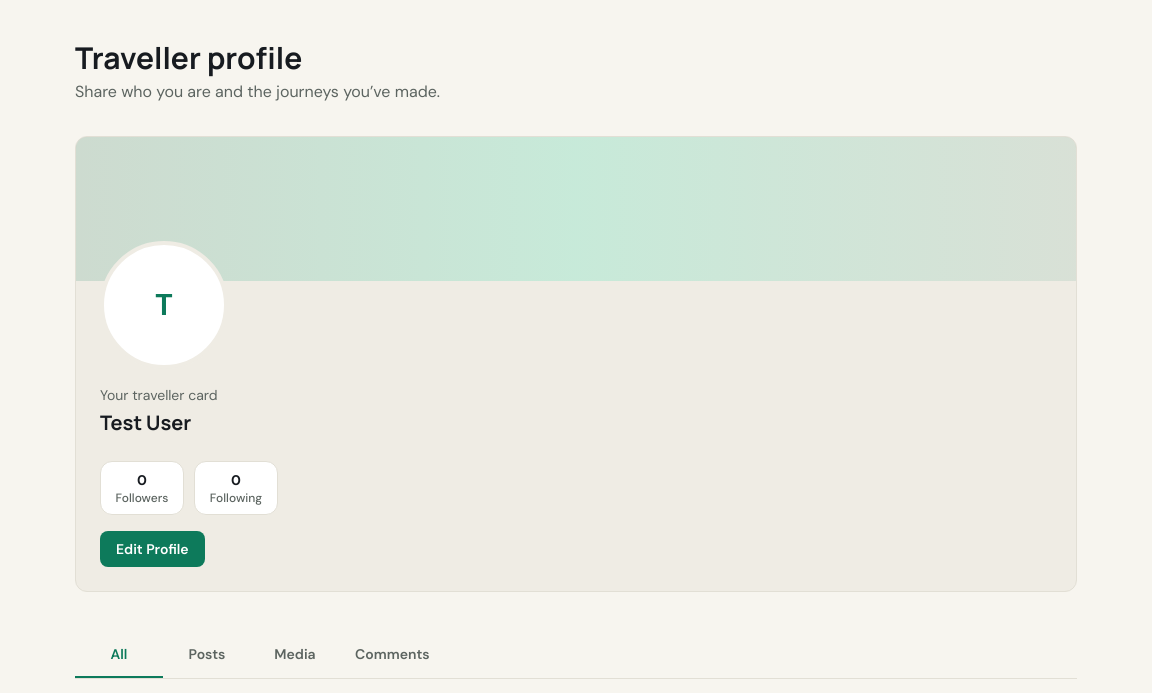
Test: Profile update › shows error on profile update failure
The width and height of the screenshot is (1152, 693).
Click the button "Edit Profile". click: (152, 549)
box: top-left (100, 531), bottom-right (205, 567)
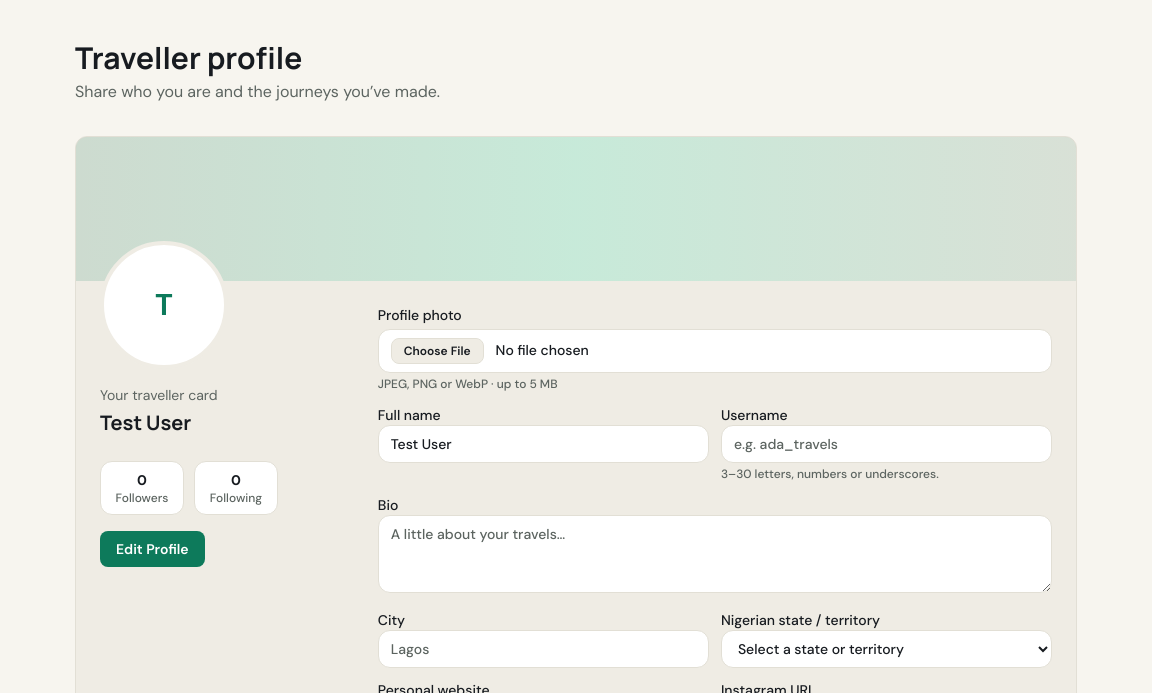
Now the field labelled "Full name" holds "Test User"
Replace the text in the field labelled "Full name" with "Updated Name". click: (543, 444)
box: top-left (378, 425), bottom-right (709, 463)
(page scrolled)
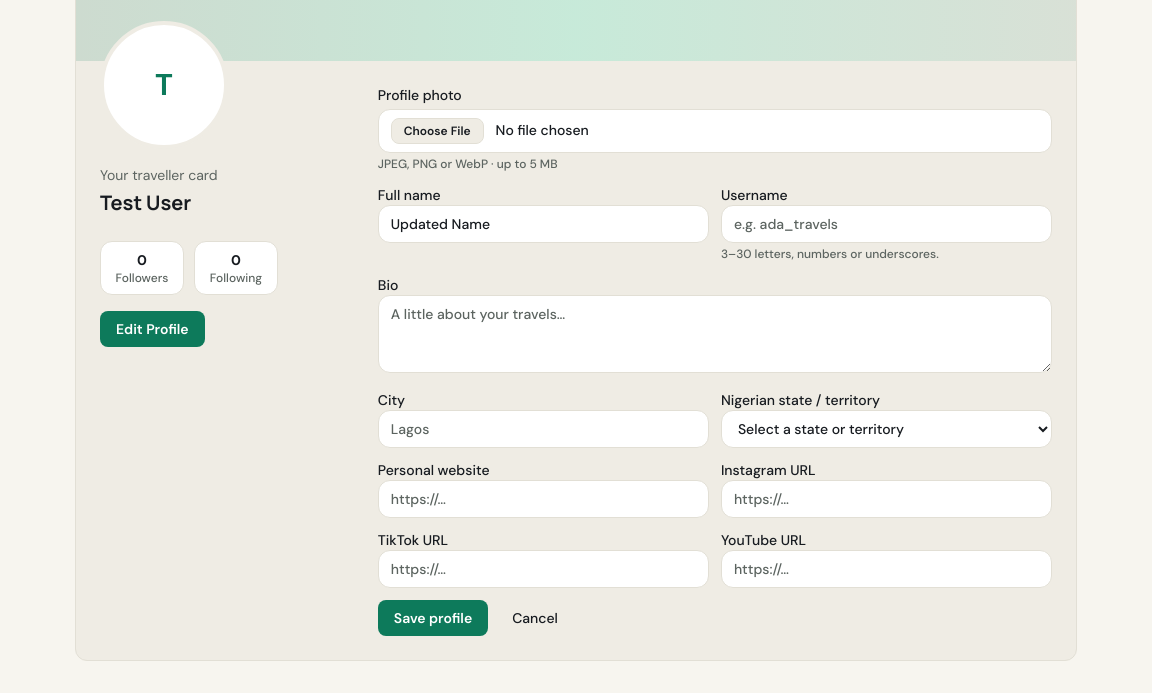
Submit the form named "Save profile", box top-left (378, 85), bottom-right (1052, 636)
(page scrolled)
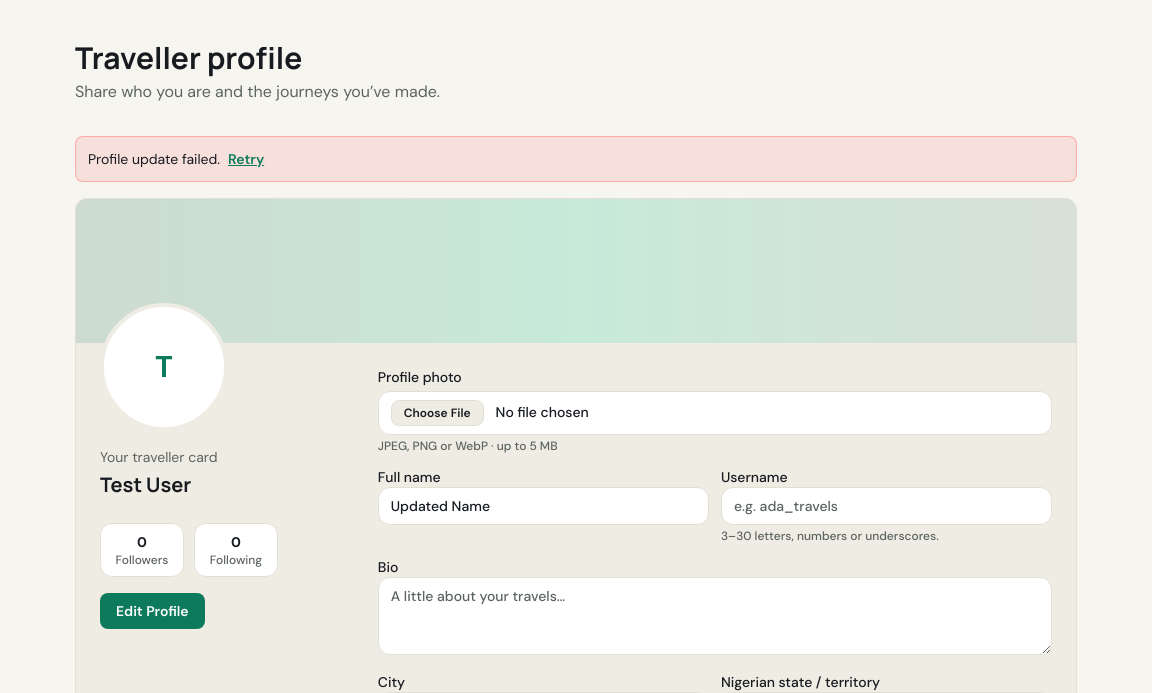
Now the text "Profile update failed. Retry" is shown, box top-left (75, 136), bottom-right (1077, 182)
